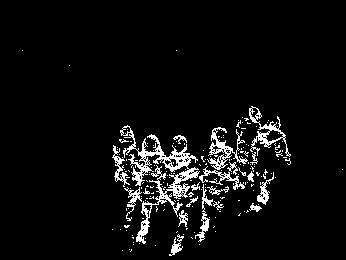person: (199, 126, 237, 242), (166, 135, 199, 255), (256, 112, 293, 214), (112, 120, 142, 229), (137, 137, 166, 242), (231, 107, 262, 184)
